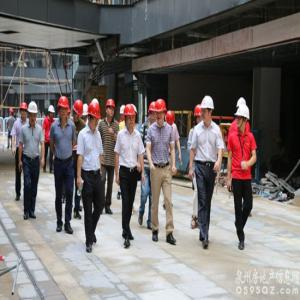red: (88, 102, 102, 132), (124, 105, 136, 129), (58, 98, 69, 121), (156, 100, 166, 125), (105, 99, 116, 121), (148, 102, 157, 125), (73, 101, 83, 121), (194, 105, 203, 126), (19, 102, 28, 121)
white: (235, 106, 251, 130), (201, 97, 214, 123), (28, 103, 39, 127), (49, 106, 55, 120)
